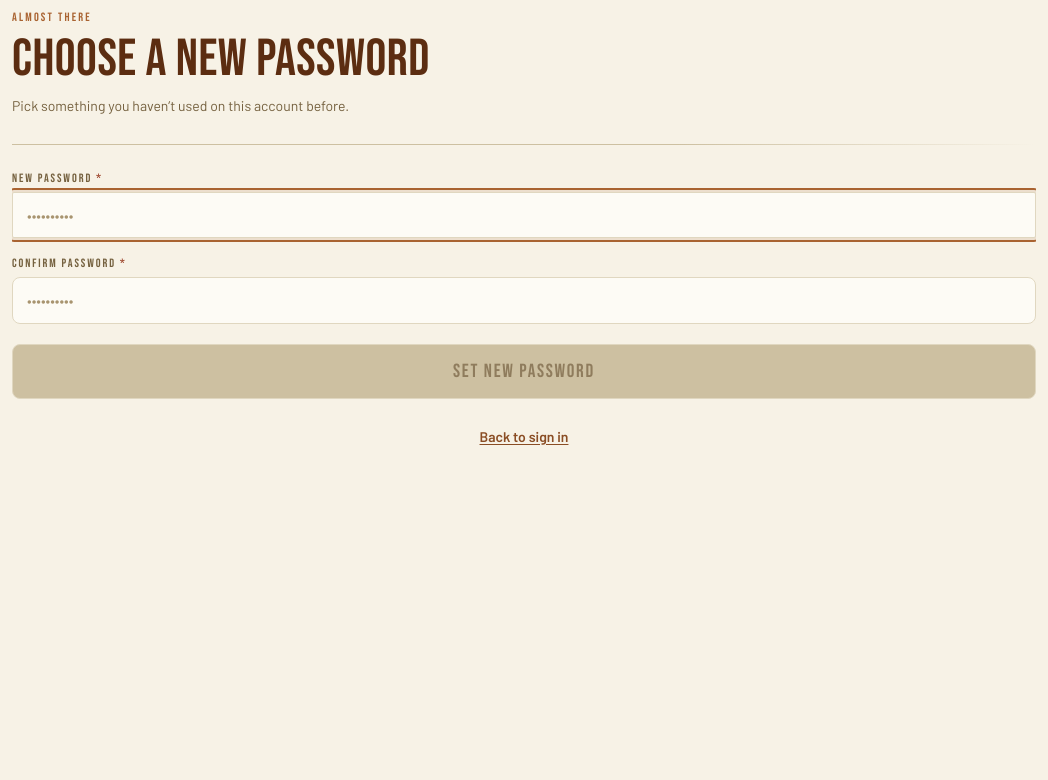
it: ResetPasswordForm › keeps the button disabled until both fields are filled
Expected: the button "Set new password" is disabled, top-left (12, 344), bottom-right (1036, 399)
In the password field labelled "New password *": [524, 215] box top-left (12, 192), bottom-right (1036, 238), type "Sherpa!Trail9"
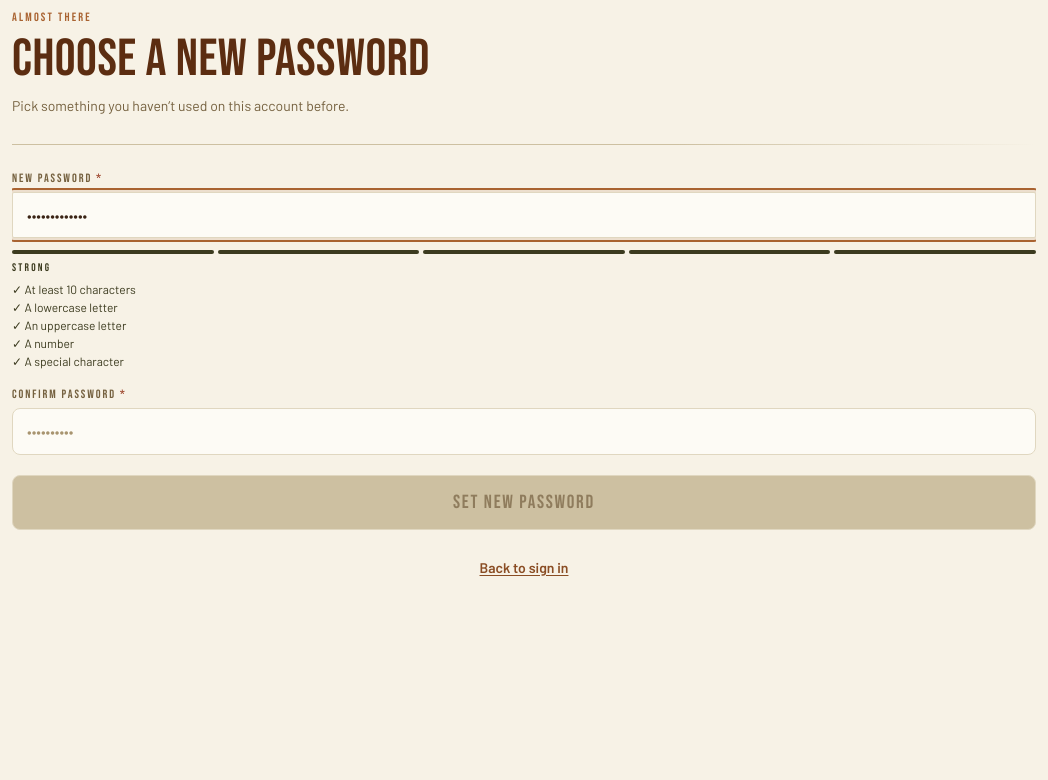
Expected: the button "Set new password" is disabled, top-left (12, 475), bottom-right (1036, 530)
In the password field labelled "Confirm password *": [524, 432] box top-left (12, 408), bottom-right (1036, 455), type "Sherpa!Trail9"
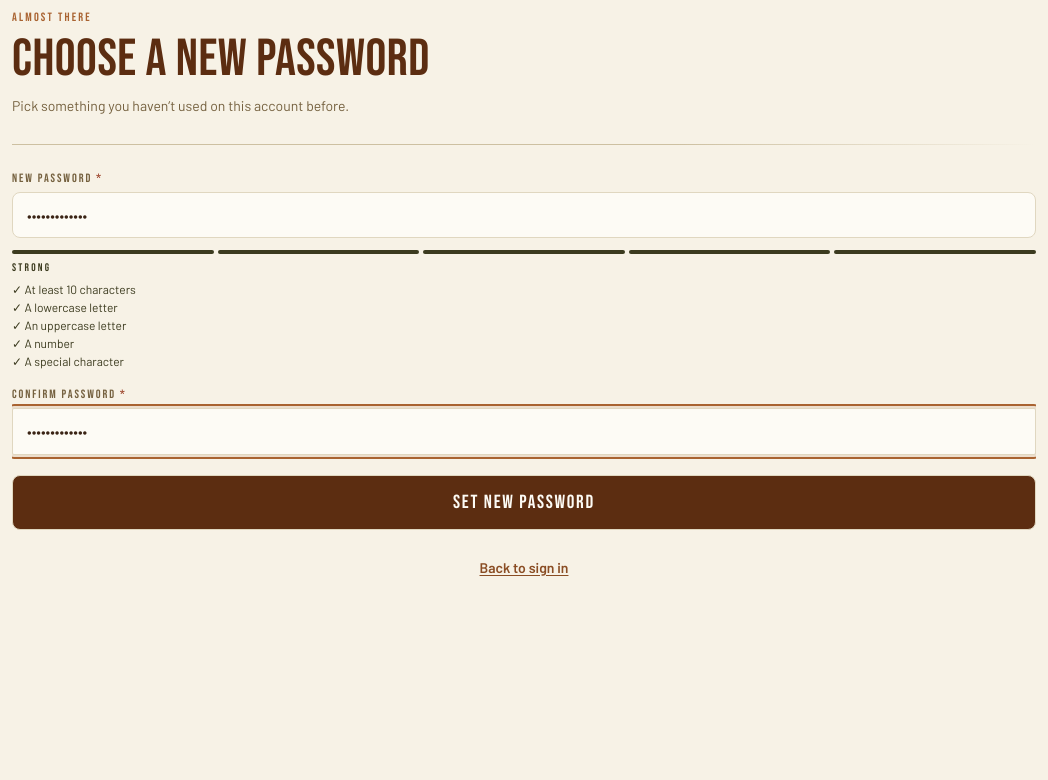
Expected: the button "Set new password" is enabled, top-left (12, 475), bottom-right (1036, 530)
